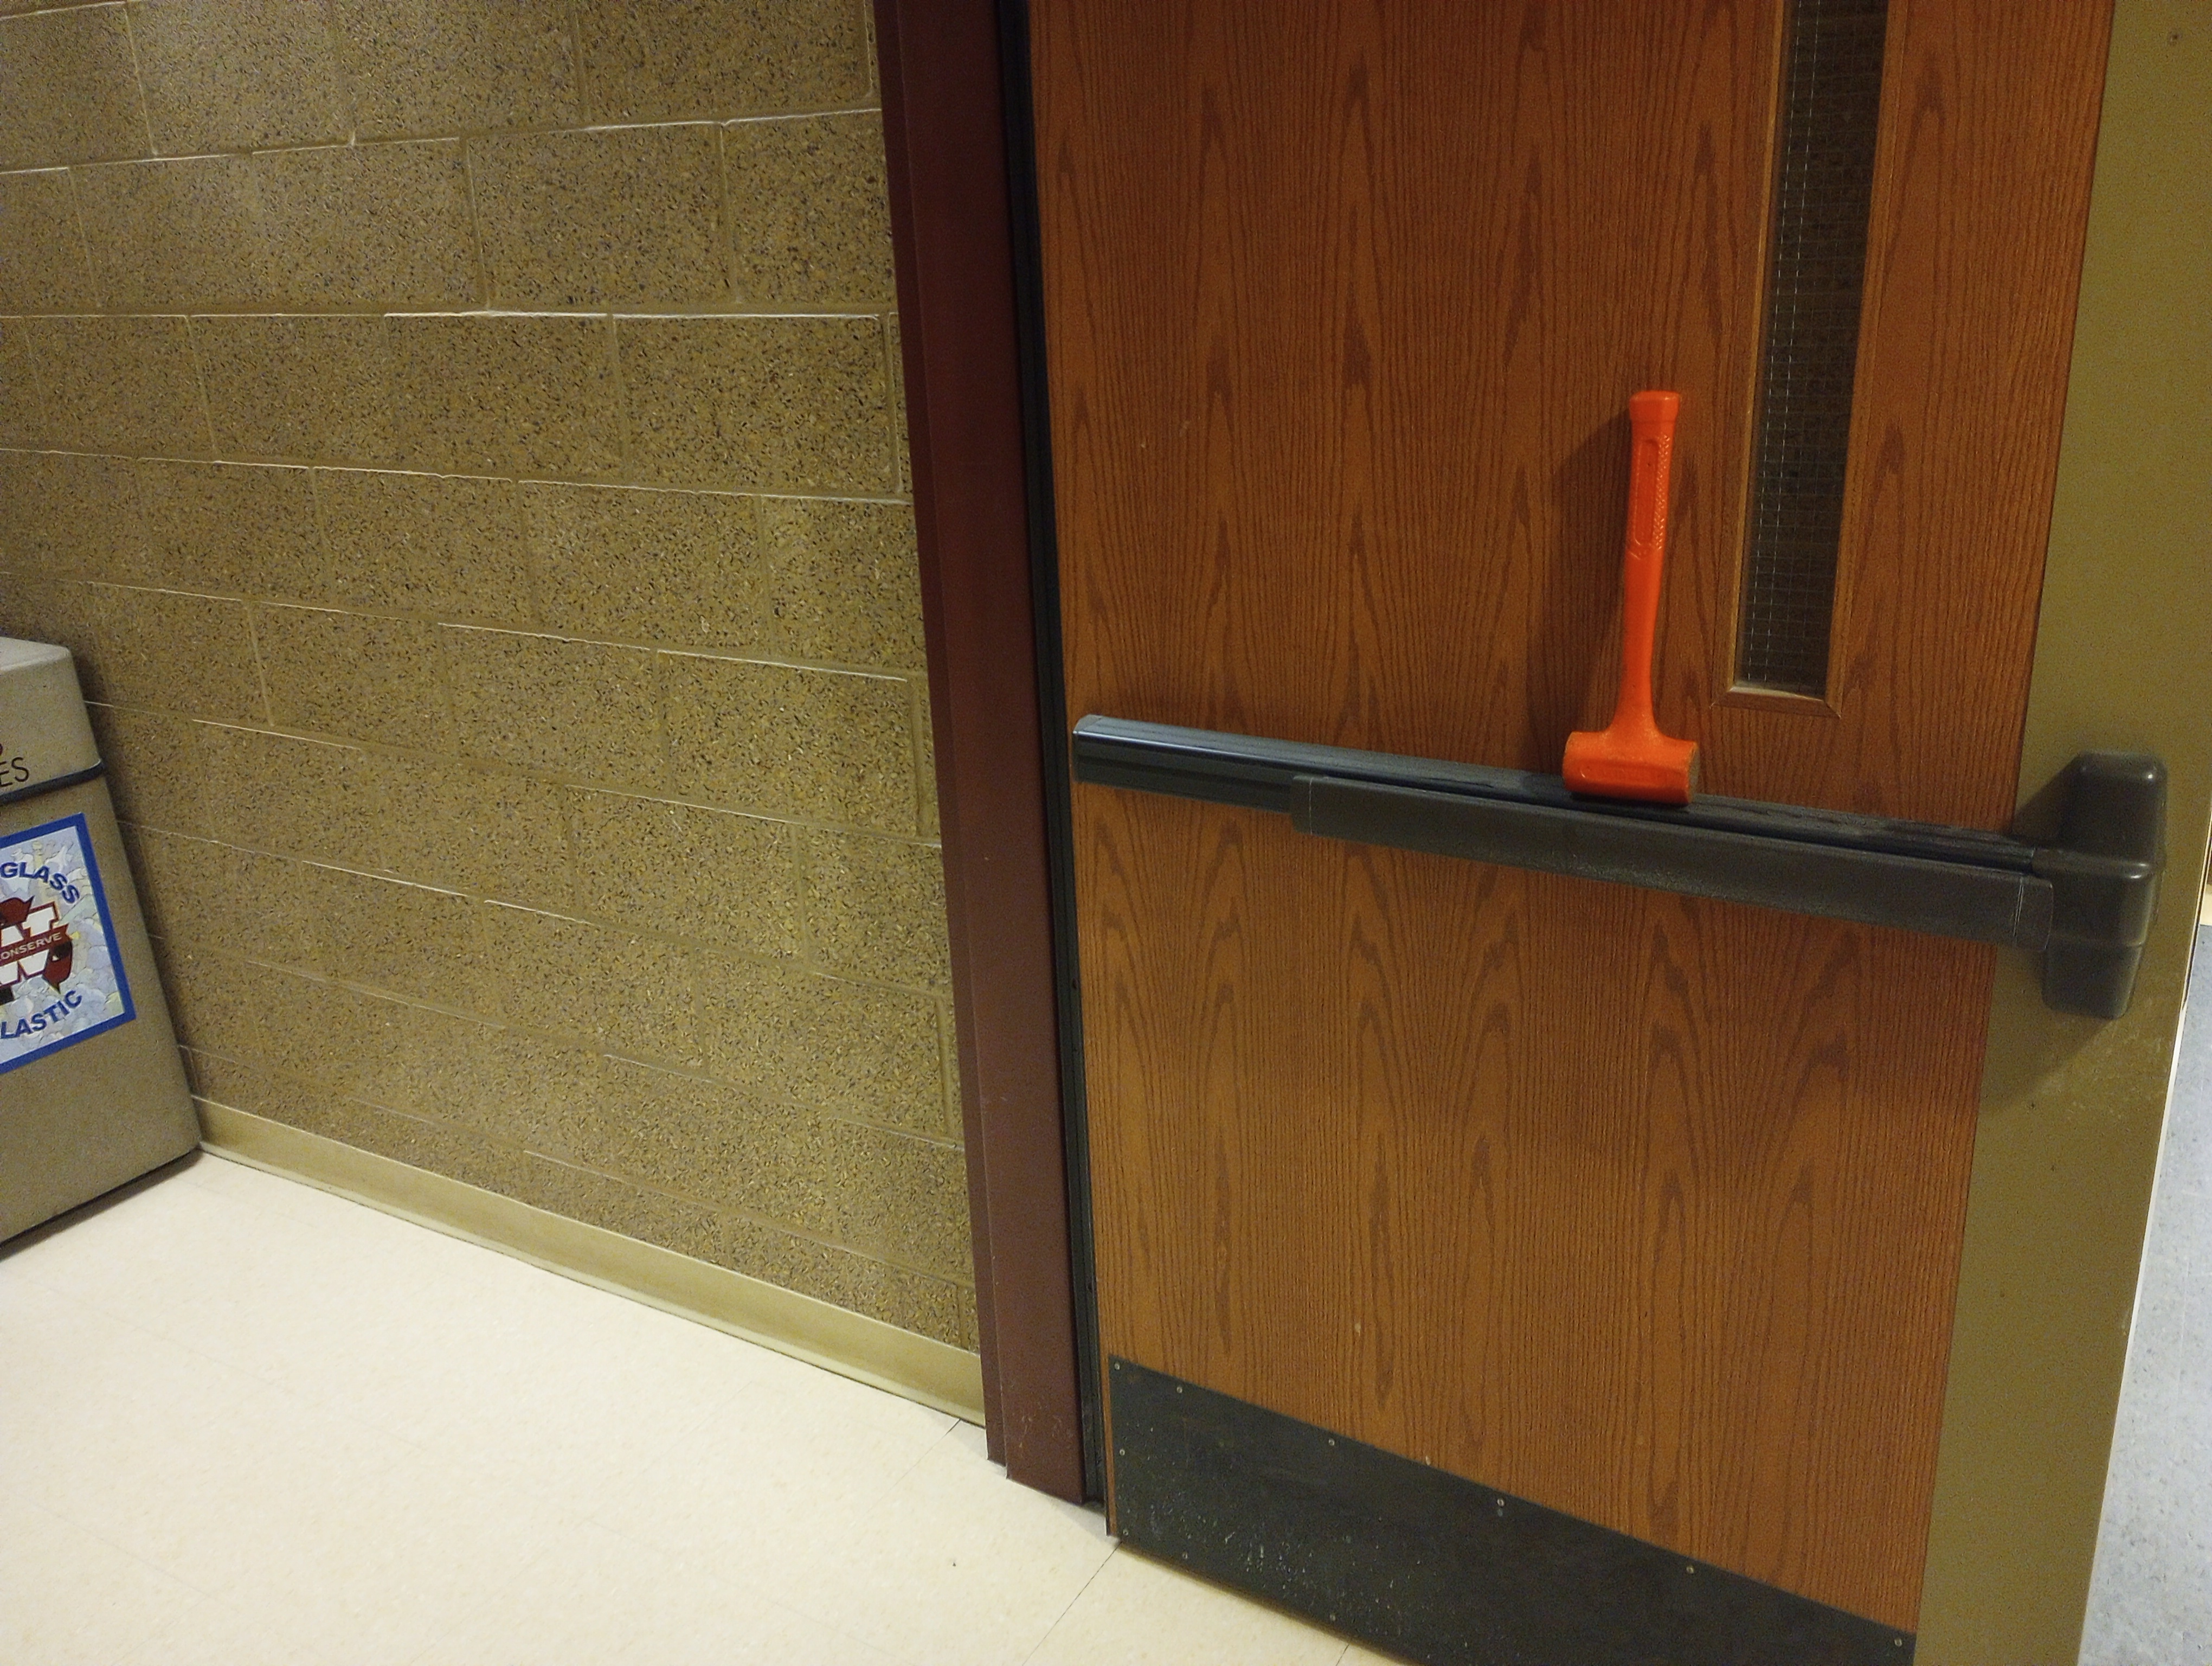hammer: (1548, 376, 1707, 811)
